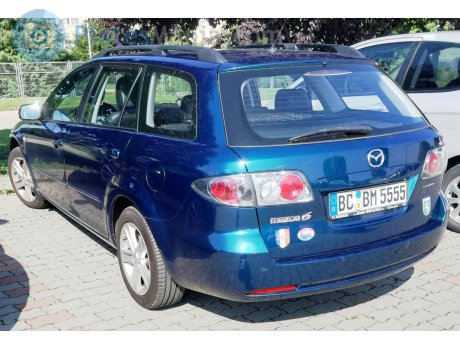License Plates: (337, 192, 413, 205)
